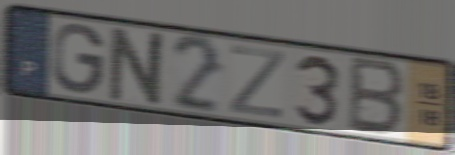2: (169, 31, 229, 117)
3: (291, 52, 342, 129)
B: (345, 53, 407, 140)
G: (50, 21, 108, 96)
N: (105, 24, 171, 110)
Z: (227, 43, 288, 122)
